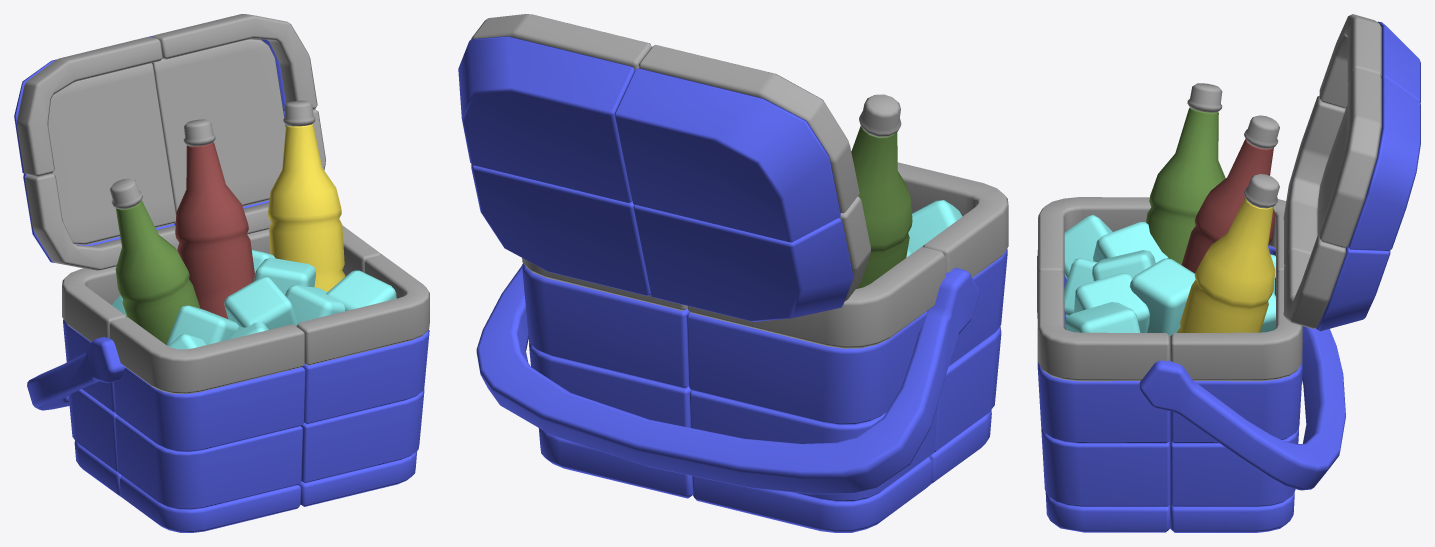
File: CoolerBox.fbx
3 views of the same model, side by side, from view 1: azimuth 30°, elevation 25°; view 2: azimuth 150°, elevation 25°; view 3: azimuth 270°, elevation 25° (orthographic). The views are drawn at different scales.
Visible parts, largest first — view 1: S_CoolerBox, M_CoolerBox, D_CoolerBox_1, D_CoolerBox_2, D_CoolerBox_3; view 2: S_CoolerBox, M_CoolerBox, D_CoolerBox_1; view 3: S_CoolerBox, M_CoolerBox, D_CoolerBox_3, D_CoolerBox_2, D_CoolerBox_1.
Boxes of the visible parts, x1,y1,x2,y2 form: S_CoolerBox: (14,14,429,509); M_CoolerBox: (48,38,417,532); D_CoolerBox_1: (109,178,142,209); D_CoolerBox_2: (183,119,215,146); D_CoolerBox_3: (283,100,315,126); S_CoolerBox: (458,14,1008,501); M_CoolerBox: (538,126,991,532); D_CoolerBox_1: (859,94,901,137); S_CoolerBox: (1037,14,1420,506); M_CoolerBox: (1045,105,1347,532); D_CoolerBox_3: (1244,174,1279,208); D_CoolerBox_2: (1244,115,1279,149); D_CoolerBox_1: (1187,83,1222,112).
Bounding box in the file's own units: 462 × 500 × 434.
